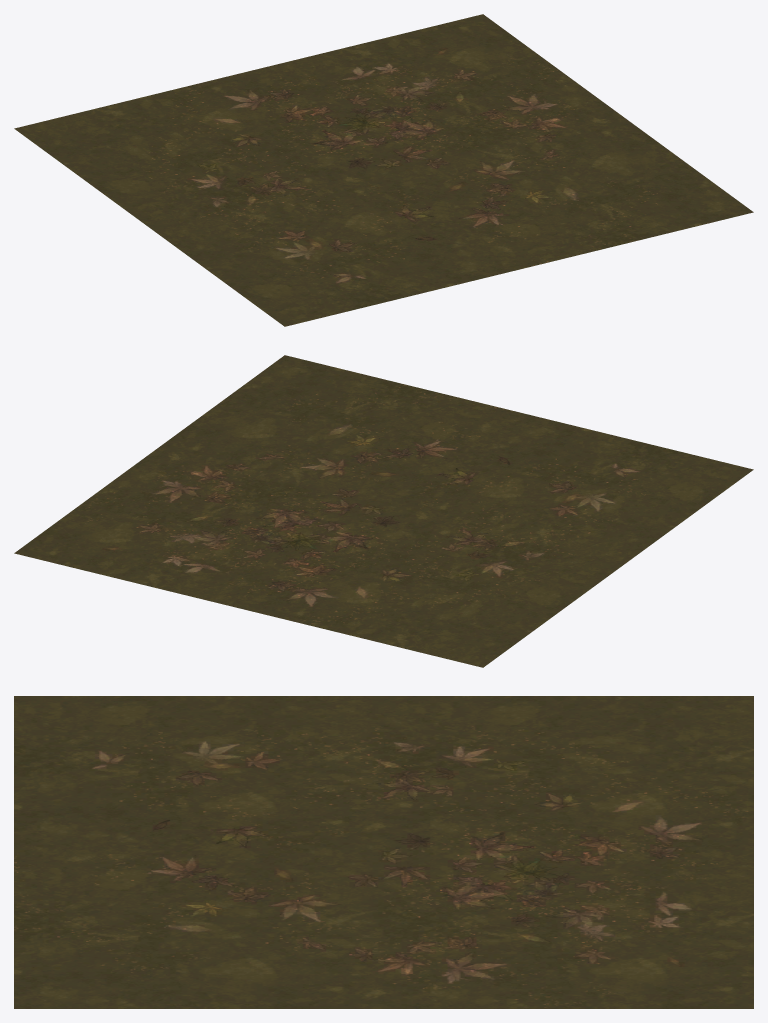
The model's file is bg_anh_tree_mapletree01e_sm_ysi.FBX.
3 renders of one model, top to bottom at view 1: azimuth 30°, elevation 25°; view 2: azimuth 150°, elevation 25°; view 3: azimuth 270°, elevation 25°, orthographic. The views are drawn at different scales.
Visible parts, largest first — view 1: bg_anh_tree_mapletree01e_sm_ysi; view 2: bg_anh_tree_mapletree01e_sm_ysi; view 3: bg_anh_tree_mapletree01e_sm_ysi.
Boxes of the visible parts, bbox=[...] form: bg_anh_tree_mapletree01e_sm_ysi: bbox=[14, 14, 753, 326]; bg_anh_tree_mapletree01e_sm_ysi: bbox=[14, 355, 753, 667]; bg_anh_tree_mapletree01e_sm_ysi: bbox=[14, 696, 753, 1008].
Bounding box in the file's own units: 256 × 1.01 × 256.
